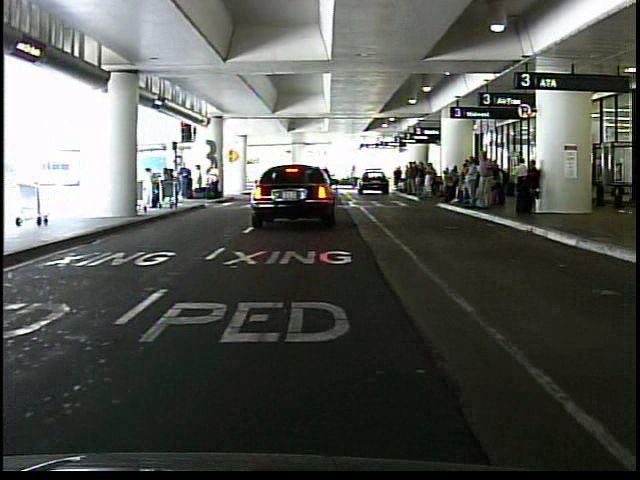person: (471, 148, 496, 214), (139, 165, 159, 220), (190, 162, 206, 202)
